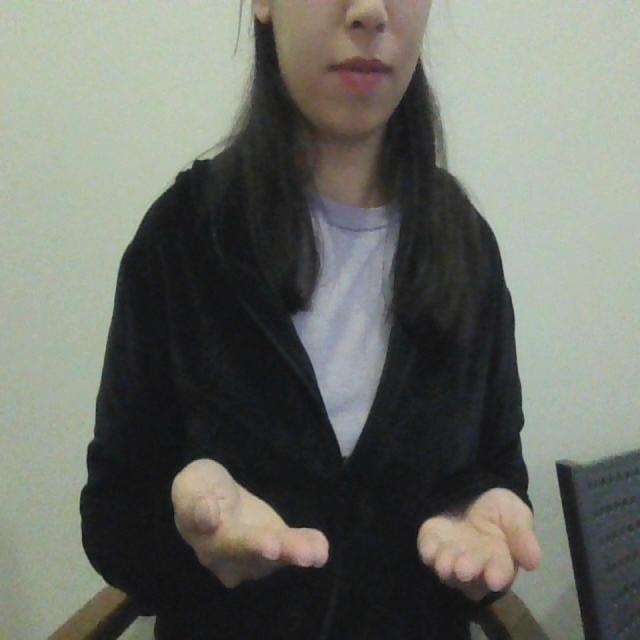Evet: (168, 452, 544, 599)
